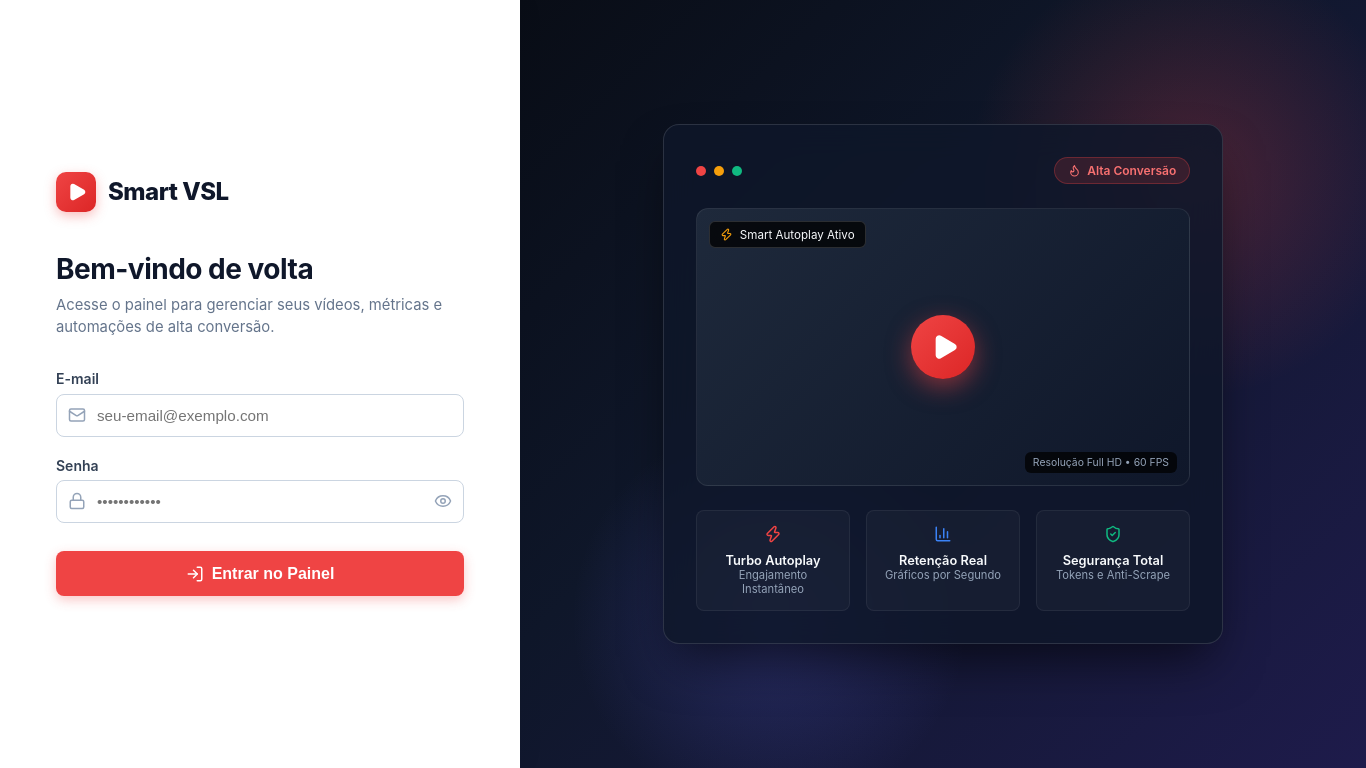
Test: App Dashboard VTurb Layout › redireciona invariavelmente para a tela inicial Meus vídeos ao realizar login
This screenshot has width=1366, height=768.
// Preenche credenciais e faz login
Type "admin@vturb.com" into the field with test id "login-email-input". click: (260, 415)
box: x1=56 y1=394 x2=464 y2=437
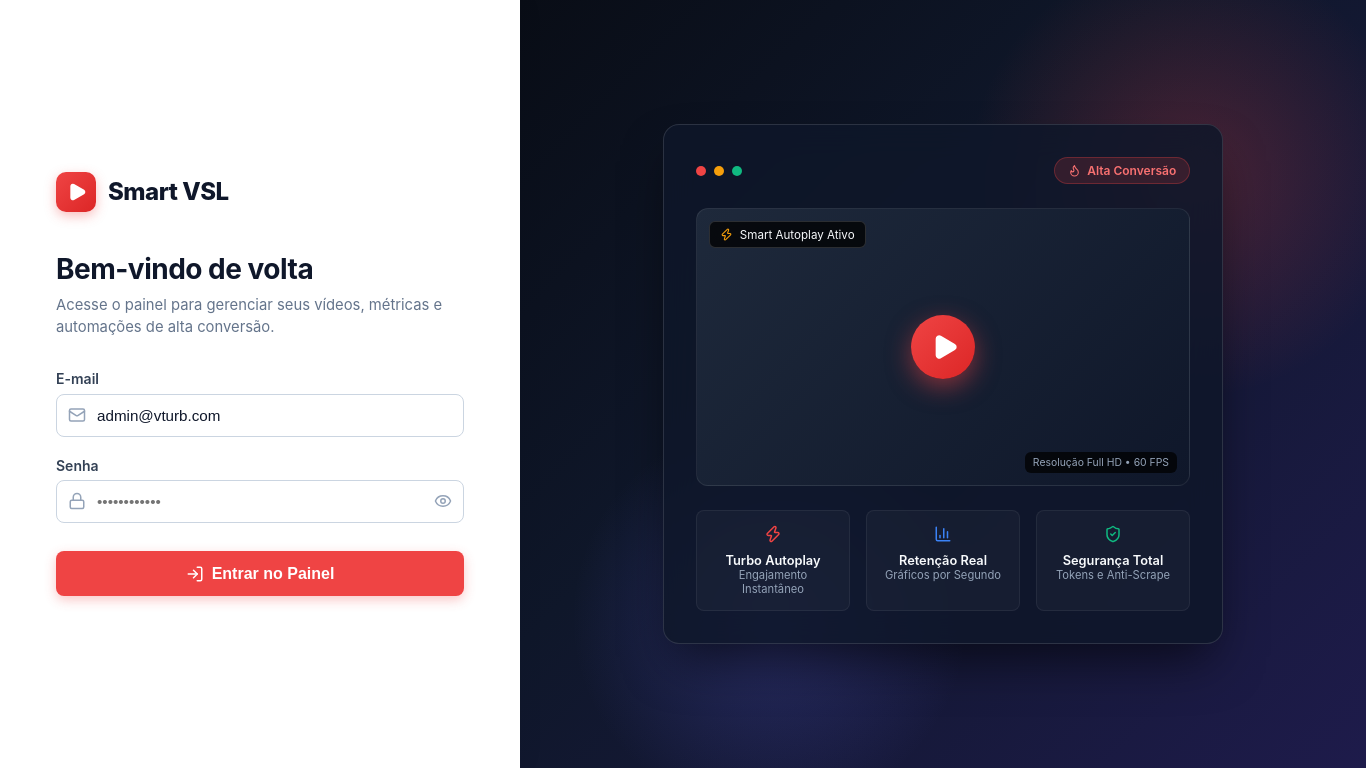
Type "Admin123456!" into the password field with test id "login-password-input". click: (260, 502)
box: x1=56 y1=480 x2=464 y2=523
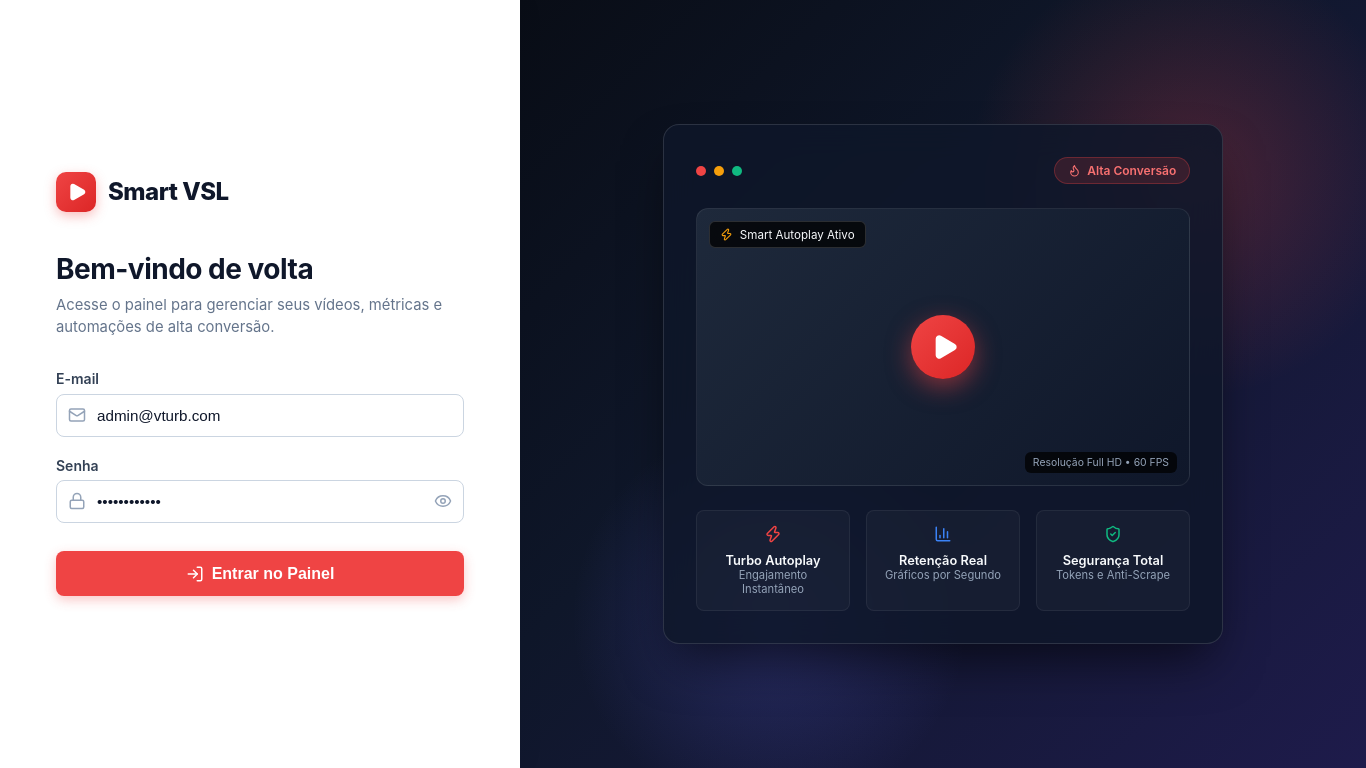
Click the button with test id "login-submit-btn". click: (260, 574)
box: x1=56 y1=551 x2=464 y2=596
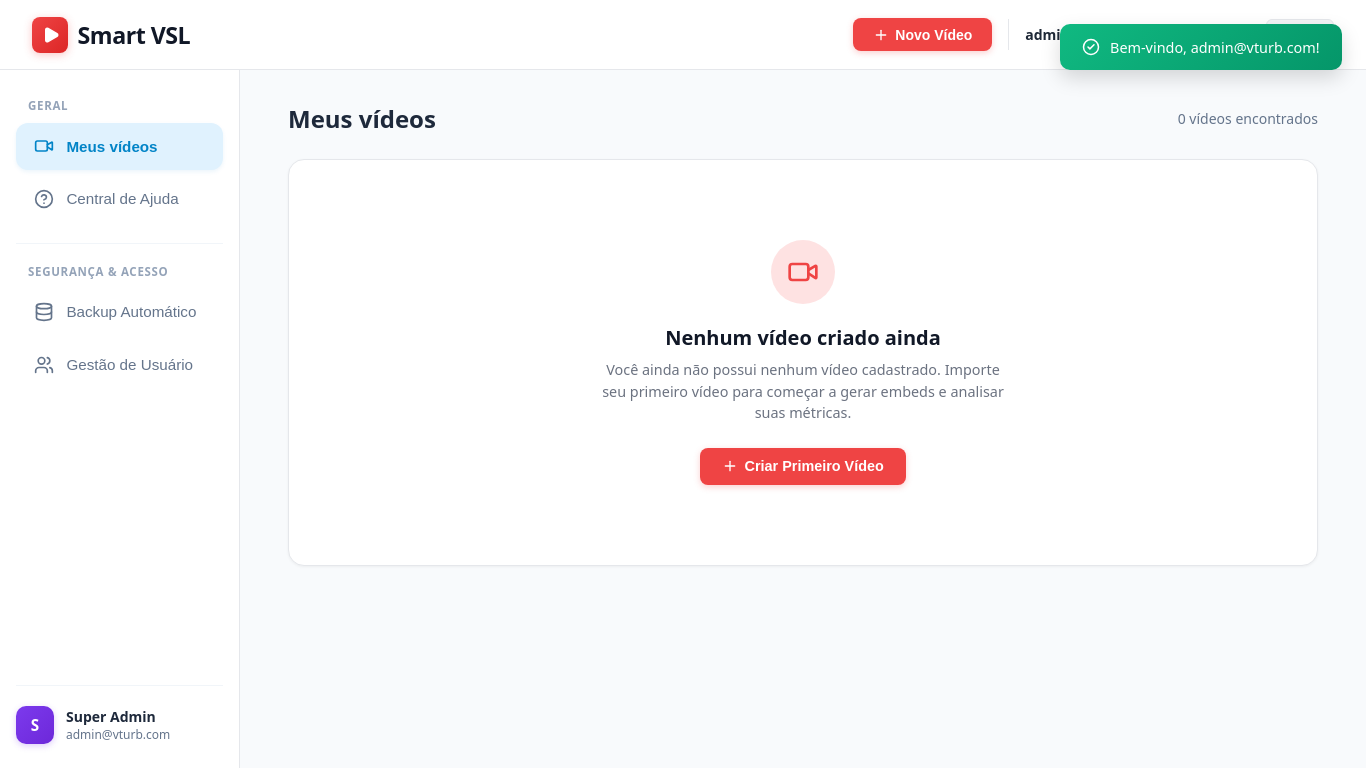
expect the element with test id "sidebar" is shown: met, box x1=0 y1=70 x2=240 y2=767
expect the heading with test id "page-title" reads "Meus vídeos": met, box x1=288 y1=102 x2=436 y2=135
